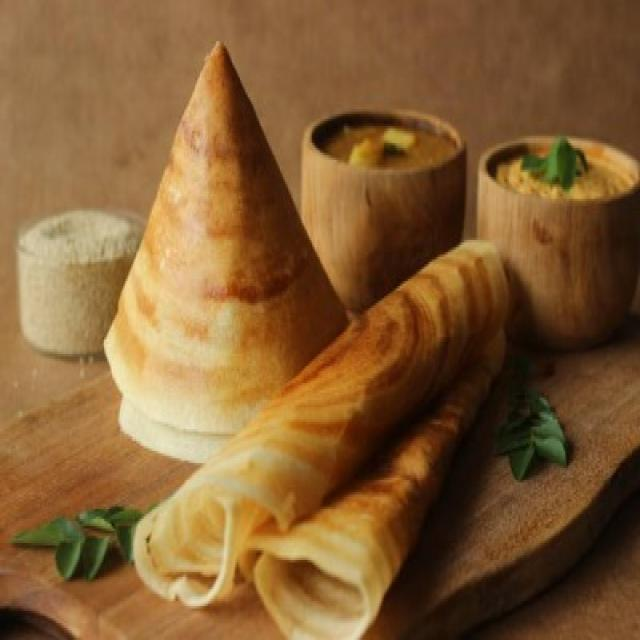DOSA: (129, 239, 511, 638), (104, 43, 349, 463)
